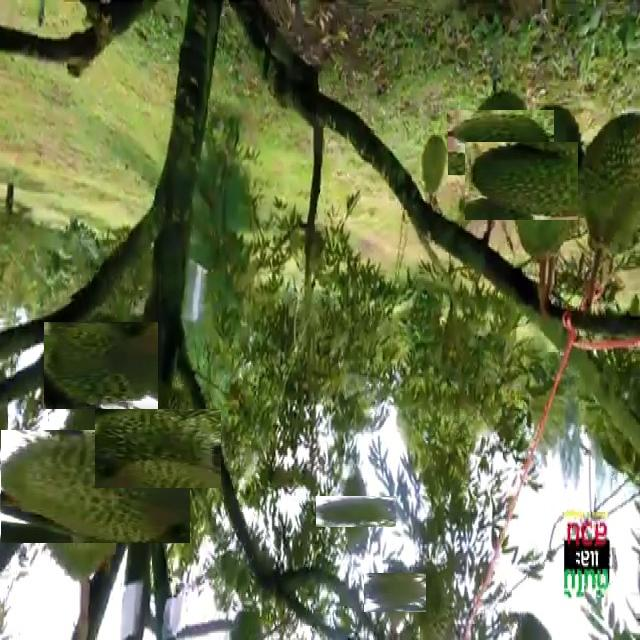durian: (12, 408, 169, 564), (486, 120, 607, 242), (107, 397, 209, 501), (50, 316, 151, 416), (578, 105, 640, 256), (457, 99, 544, 185), (328, 484, 383, 540), (370, 567, 420, 618), (419, 132, 448, 198)
